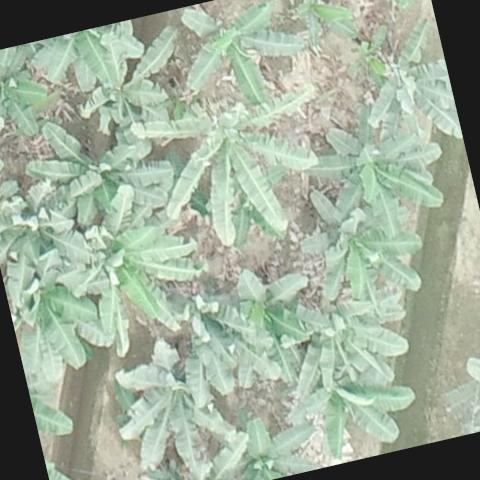Banana-plant: (130, 79, 342, 261), (44, 172, 210, 350), (297, 91, 454, 235), (19, 96, 180, 236), (286, 168, 432, 317), (103, 329, 237, 480), (189, 257, 327, 399), (280, 347, 425, 472), (275, 285, 420, 410), (170, 0, 314, 115), (68, 10, 196, 138), (349, 17, 463, 158), (0, 243, 110, 387), (217, 406, 320, 480), (0, 178, 80, 271), (0, 40, 56, 150), (287, 0, 360, 55), (344, 28, 394, 84)
